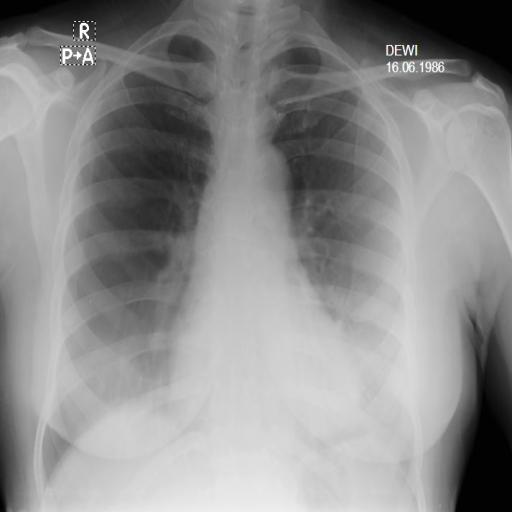kardiomegali: (29, 32, 429, 506)
